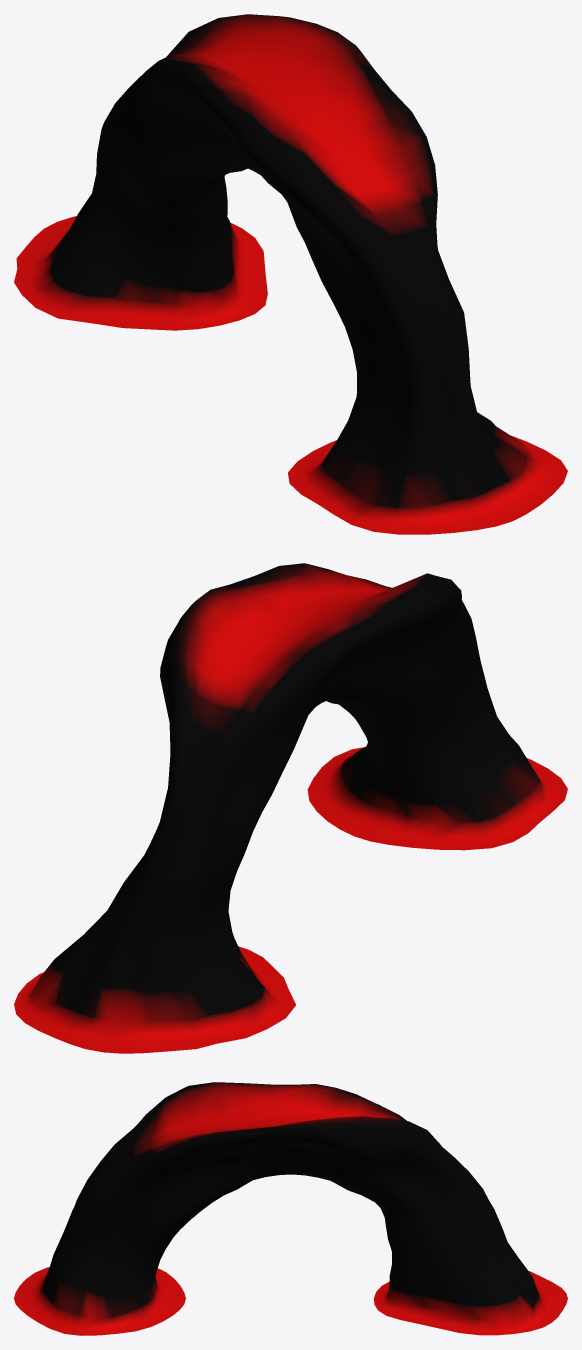
Rendered from GroundObject01D.fbx.
3 views of the same model, one above another, from view 1: azimuth 30°, elevation 25°; view 2: azimuth 150°, elevation 25°; view 3: azimuth 270°, elevation 25° (orthographic). The views are drawn at different scales.
Visible parts, largest first — view 1: GroundObject01D; view 2: GroundObject01D; view 3: GroundObject01D.
Boxes of the visible parts, left/top/right/bottom form: GroundObject01D: left=14, top=14, right=567, bottom=534; GroundObject01D: left=14, top=563, right=567, bottom=1053; GroundObject01D: left=14, top=1082, right=567, bottom=1335.
Bounding box in the file's own units: 1.84 × 2.26 × 5.67.
